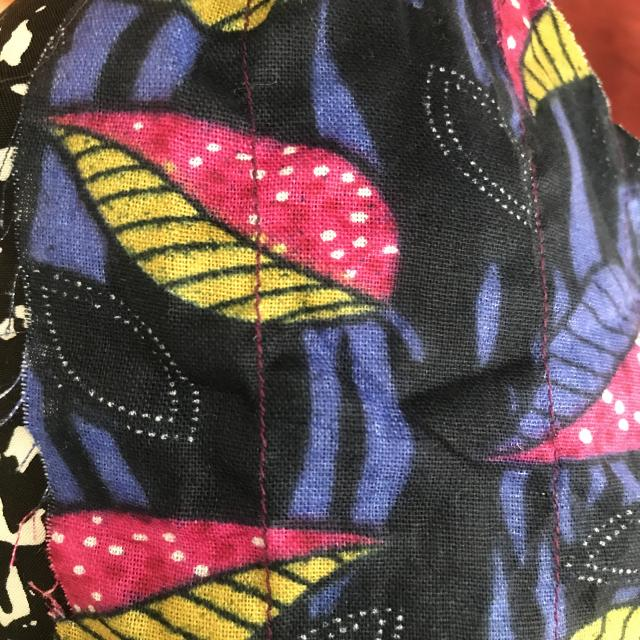good: (244, 340, 282, 512)
